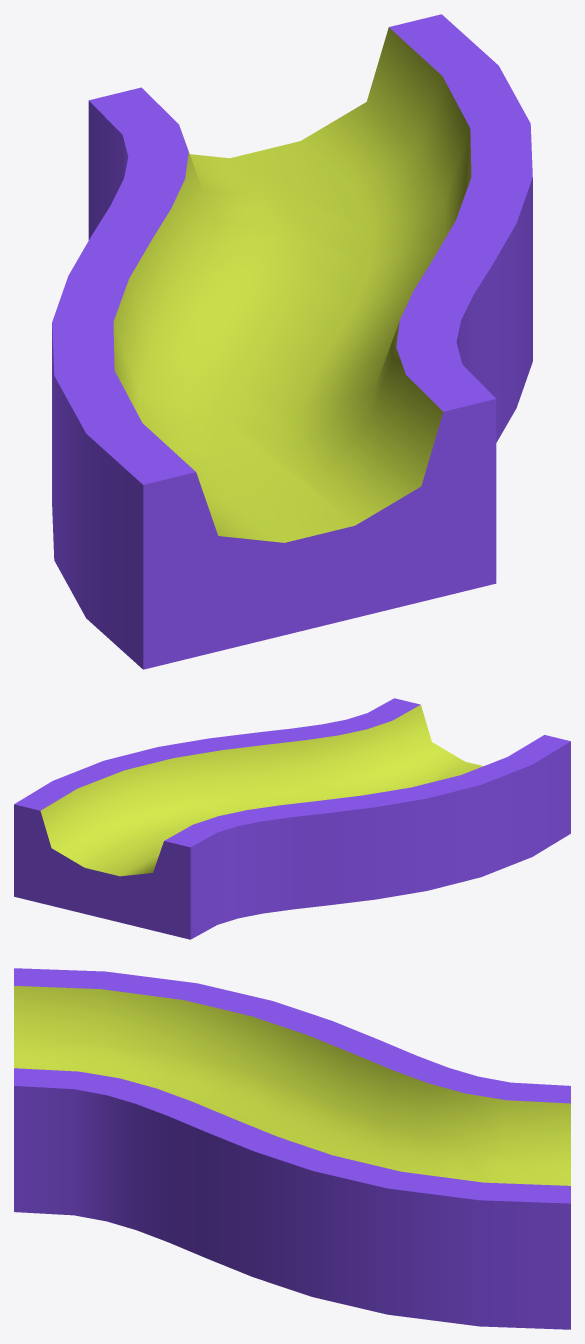
File: s-curve_short_left_C.dae
3 renders of one model, top to bottom at view 1: azimuth 30°, elevation 25°; view 2: azimuth 150°, elevation 25°; view 3: azimuth 270°, elevation 25°, orthographic. The views are drawn at different scales.
Parts seen in each view (by area): view 1: s-curve_short_left_C; view 2: s-curve_short_left_C; view 3: s-curve_short_left_C.
Boxes of the visible parts, <box> form: s-curve_short_left_C: <box>52,14,532,669</box>; s-curve_short_left_C: <box>14,698,570,939</box>; s-curve_short_left_C: <box>14,968,570,1329</box>.
Bounding box in the file's own units: 2 × 0.5 × 2.
